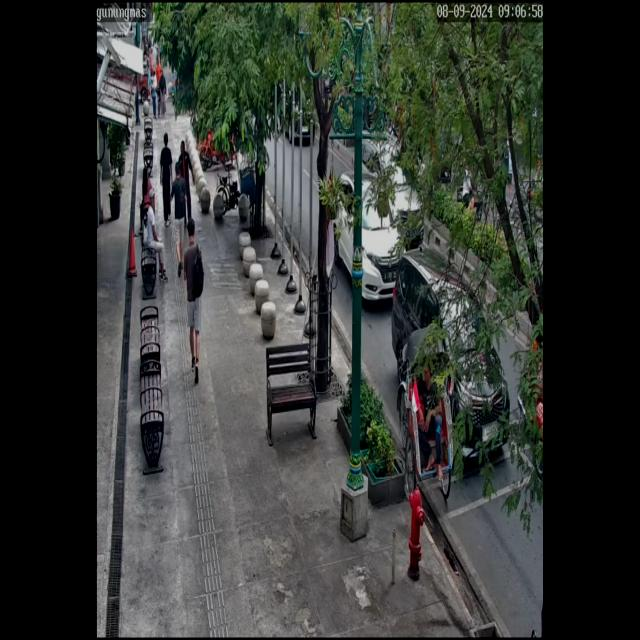Car: (387, 240, 514, 477), (329, 165, 409, 312), (358, 134, 424, 245)
